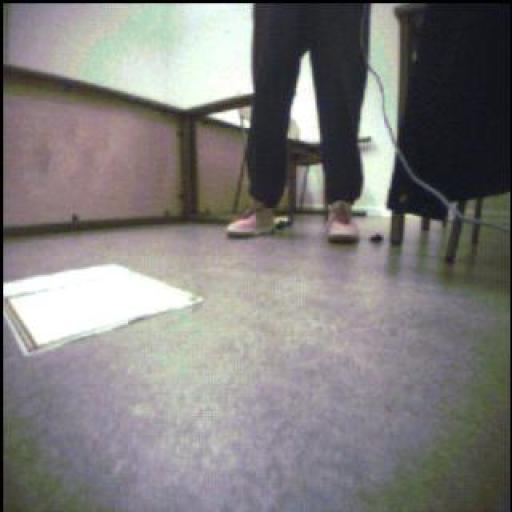Pad: (4, 265, 203, 355)
